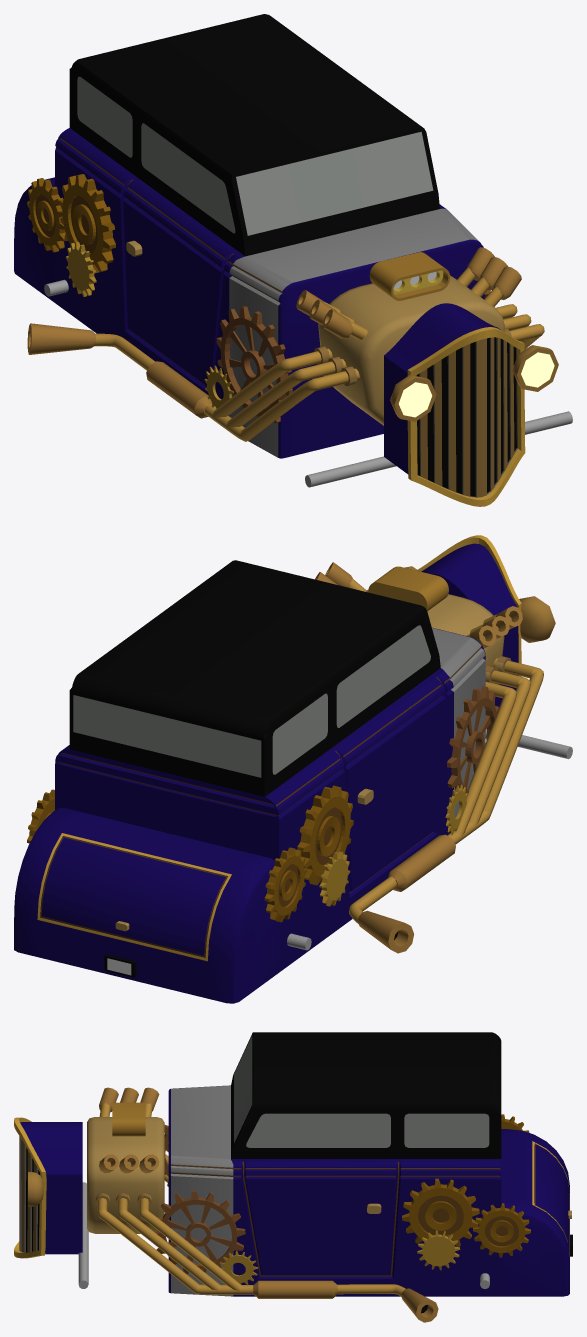
File: classic-blue-body.fbx
The picture shows the model from 3 angles, top to bottom: view 1: azimuth 30°, elevation 25°; view 2: azimuth 150°, elevation 25°; view 3: azimuth 270°, elevation 25°; orthographic projection. The views are drawn at different scales.
Visible parts, largest first — view 1: car-body, fender, engine, pipes, pipe-add-ons, side-cog-back.002, side-cog-front, headlights, engine-top, side-cog-back.001, front-wheels-connector, side-cog-back (+1 smaller); view 2: car-body, pipes, fender, pipe-add-ons, side-cog-back.002, side-cog-back.001, side-cog-front, engine-top, engine, headlights, side-cog-back, front-wheels-connector (+2 smaller); view 3: car-body, fender, engine, pipes, pipe-add-ons, side-cog-back.002, side-cog-front, side-cog-back.001, engine-top, side-cog-back, front-wheels-connector, side-cog-front.001 (+1 smaller).
Boxes of the visible parts, x1=… form: car-body: x1=14, y1=14, x2=484, y2=458; fender: x1=384, y1=303, x2=525, y2=506; engine: x1=318, y1=275, x2=504, y2=425; pipes: x1=94, y1=267, x2=544, y2=441; pipe-add-ons: x1=27, y1=247, x2=521, y2=418; side-cog-back.002: x1=59, y1=174, x2=115, y2=273; side-cog-front: x1=216, y1=290, x2=490, y2=423; headlights: x1=390, y1=345, x2=558, y2=421; engine-top: x1=369, y1=252, x2=450, y2=300; side-cog-back.001: x1=27, y1=178, x2=65, y2=252; front-wheels-connector: x1=305, y1=411, x2=572, y2=487; side-cog-back: x1=65, y1=241, x2=96, y2=296; car-body: x1=14, y1=560, x2=485, y2=1003; pipes: x1=349, y1=579, x2=543, y2=923; fender: x1=416, y1=535, x2=521, y2=707; pipe-add-ons: x1=315, y1=562, x2=522, y2=953; side-cog-back.002: x1=297, y1=785, x2=353, y2=885; side-cog-back.001: x1=27, y1=789, x2=306, y2=922; side-cog-front: x1=447, y1=686, x2=498, y2=794; engine-top: x1=368, y1=566, x2=448, y2=610; engine: x1=365, y1=590, x2=504, y2=684; headlights: x1=405, y1=566, x2=555, y2=642; side-cog-back: x1=319, y1=851, x2=350, y2=906; front-wheels-connector: x1=485, y1=729, x2=572, y2=759; car-body: x1=168, y1=1032, x2=569, y2=1296; fender: x1=14, y1=1117, x2=82, y2=1258; engine: x1=87, y1=1117, x2=164, y2=1233; pipes: x1=97, y1=1099, x2=405, y2=1296; pipe-add-ons: x1=99, y1=1087, x2=438, y2=1322; side-cog-back.002: x1=402, y1=1178, x2=479, y2=1246; side-cog-front: x1=155, y1=1125, x2=245, y2=1274; side-cog-back.001: x1=473, y1=1114, x2=530, y2=1257; engine-top: x1=112, y1=1102, x2=145, y2=1136; side-cog-back: x1=417, y1=1230, x2=460, y2=1270; front-wheels-connector: x1=78, y1=1182, x2=88, y2=1288; side-cog-front.001: x1=219, y1=1251, x2=258, y2=1285.
Size of the model in its own units: 373 by 227 by 615.
